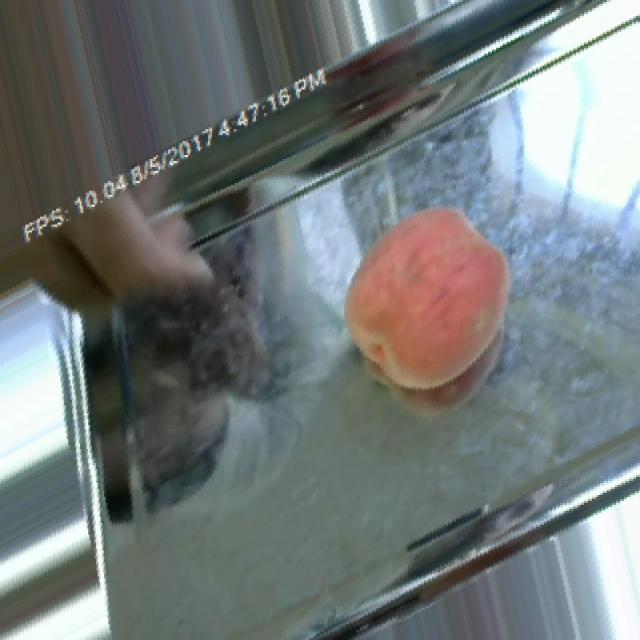Fruit: (329, 189, 527, 411)
